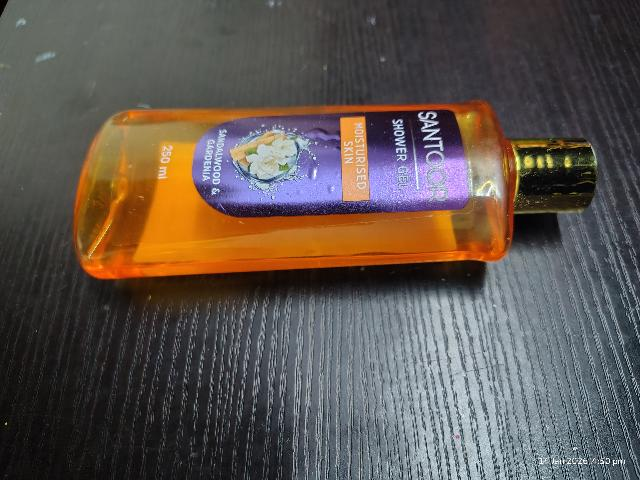santoor bodywash: (85, 102, 583, 263)
